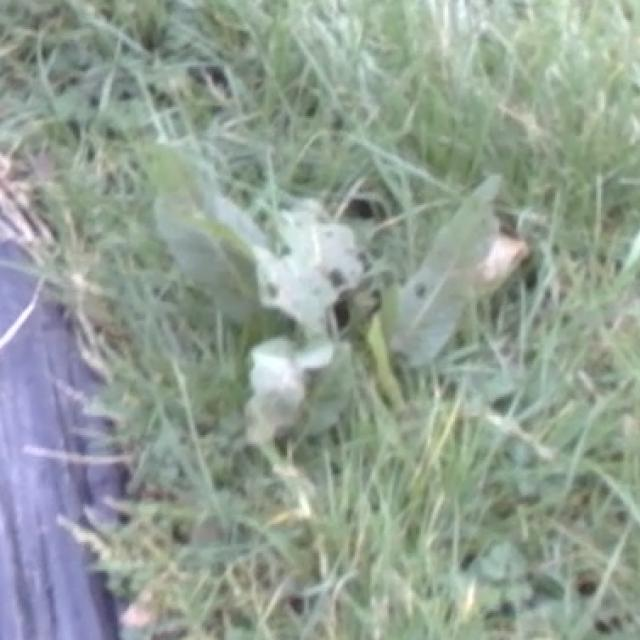organic waste: (111, 114, 592, 468)
